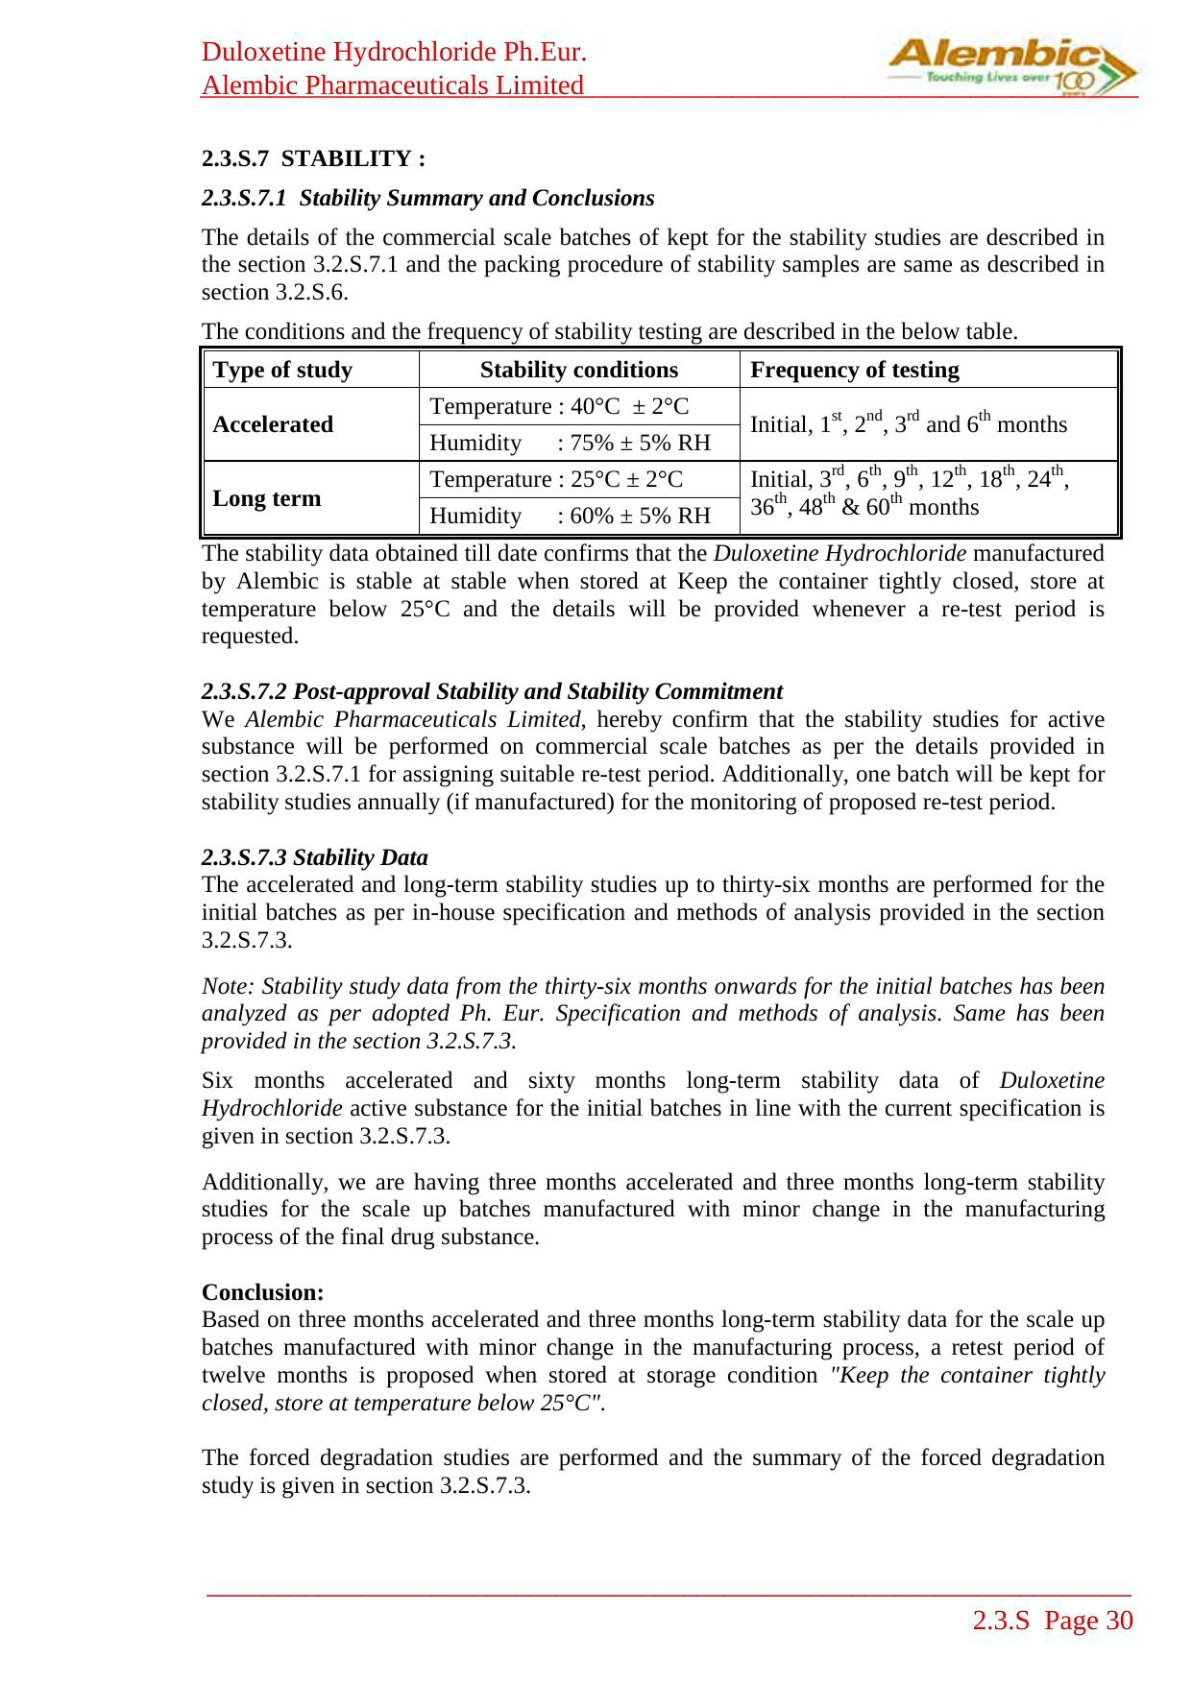merged_cells: (197, 344, 1124, 542)
